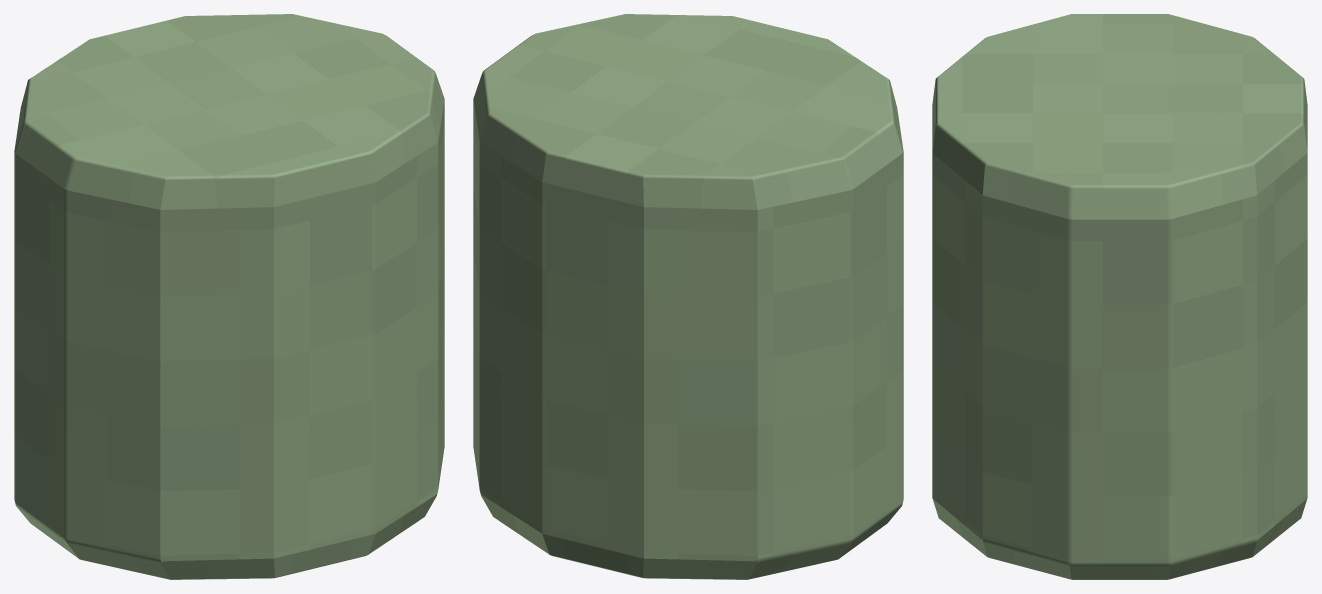
Rendered from Tin.glb.
3 views of the same model, side by side, from view 1: azimuth 30°, elevation 25°; view 2: azimuth 150°, elevation 25°; view 3: azimuth 270°, elevation 25° (orthographic).
Visible parts, largest first — view 1: Tin; view 2: Tin; view 3: Tin.
Part boxes in pixels (x1=…): Tin: x1=14, y1=14, x2=444, y2=579; Tin: x1=473, y1=14, x2=903, y2=579; Tin: x1=932, y1=14, x2=1307, y2=579.
Bounding box in the file's own units: 0.2395 × 0.245 × 0.2086.
1 material, 1 textured.
